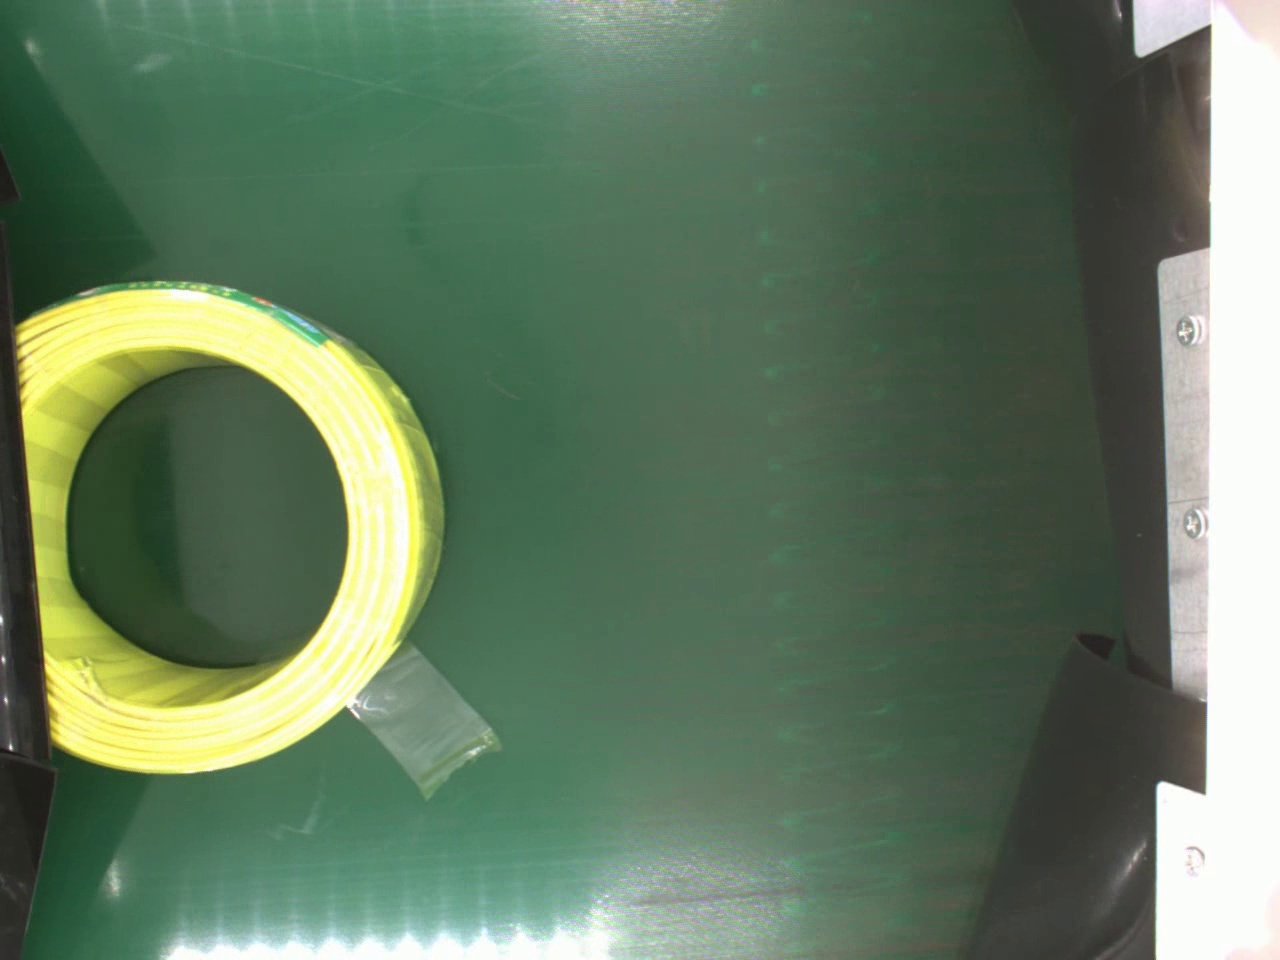yellow: (15, 271, 452, 779)
